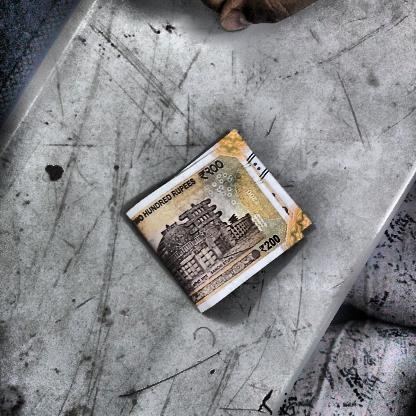Rs200: (255, 230, 286, 258)
